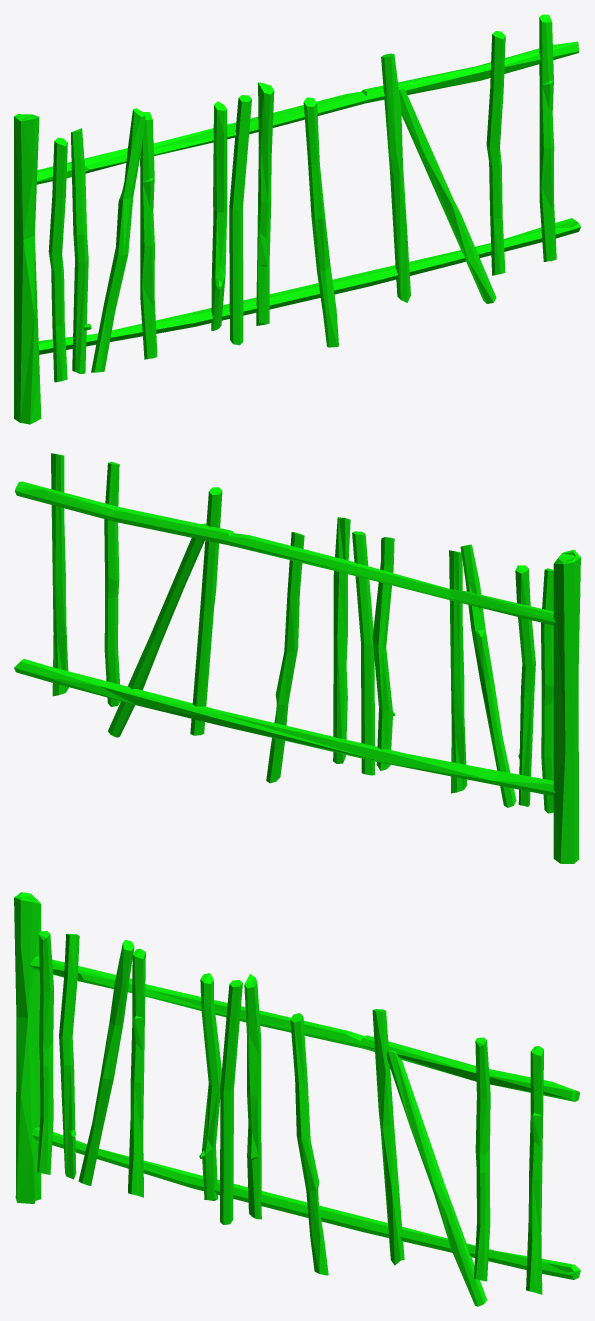
File: SM_Fence_Stick_3m_Broken_A.fbx
3 renders of one model, top to bottom at view 1: azimuth 30°, elevation 25°; view 2: azimuth 150°, elevation 25°; view 3: azimuth 330°, elevation 25°, orthographic.
Parts seen in each view (by area): view 1: fence-stick-3m-broken-a; view 2: fence-stick-3m-broken-a; view 3: fence-stick-3m-broken-a.
Part boxes in pixels (x1=…): fence-stick-3m-broken-a: x1=14, y1=14, x2=580, y2=424; fence-stick-3m-broken-a: x1=14, y1=453, x2=580, y2=863; fence-stick-3m-broken-a: x1=14, y1=892, x2=580, y2=1306.
Size of the model in its own units: 3.07 by 1.6 by 0.1761.
